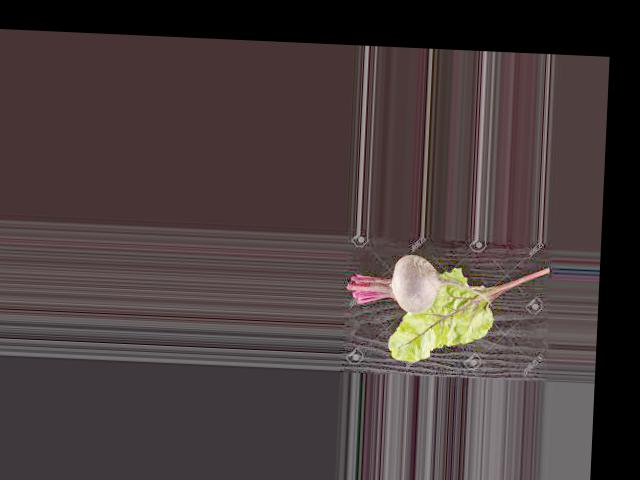beet: (345, 251, 492, 316)
